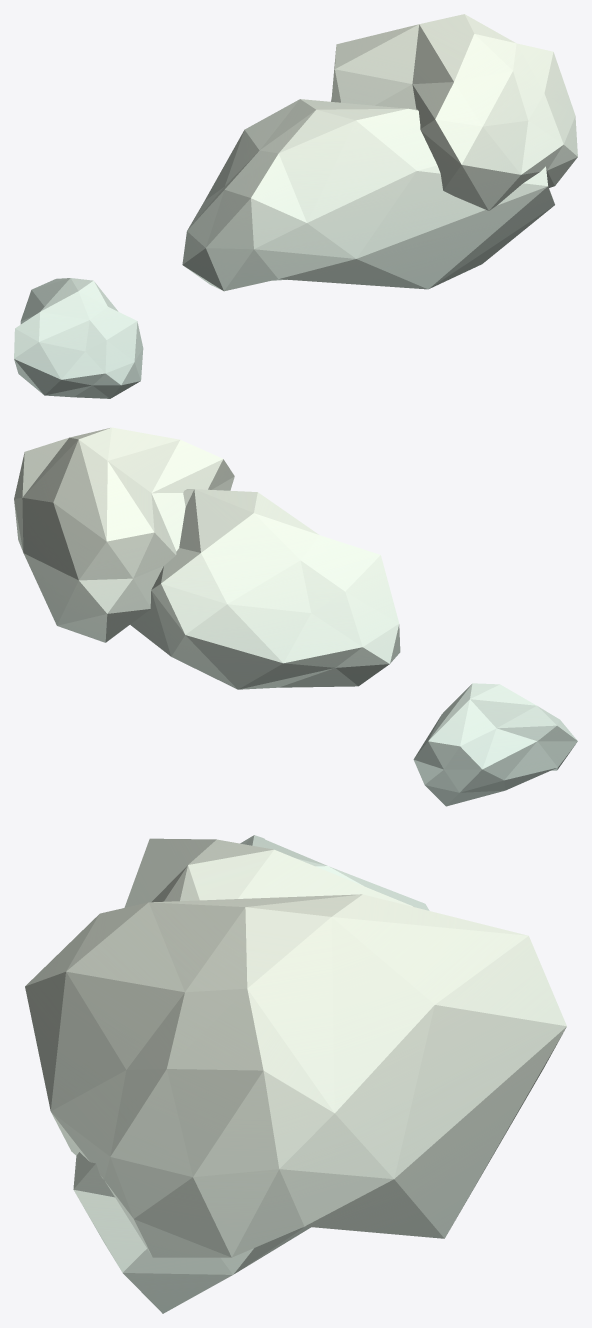
Rendered from Cloud02.fbx.
The picture shows the model from 3 angles, top to bottom: view 1: azimuth 30°, elevation 25°; view 2: azimuth 150°, elevation 25°; view 3: azimuth 270°, elevation 25°; orthographic projection. The views are drawn at different scales.
Visible parts, largest first — view 1: Cloud02; view 2: Cloud02; view 3: Cloud02.
Boxes of the visible parts, x1,y1,x2,y2 form: Cloud02: [14, 14, 577, 398]; Cloud02: [14, 427, 577, 806]; Cloud02: [25, 835, 566, 1313].
Size of the model in its own units: 417 by 190 by 177.
